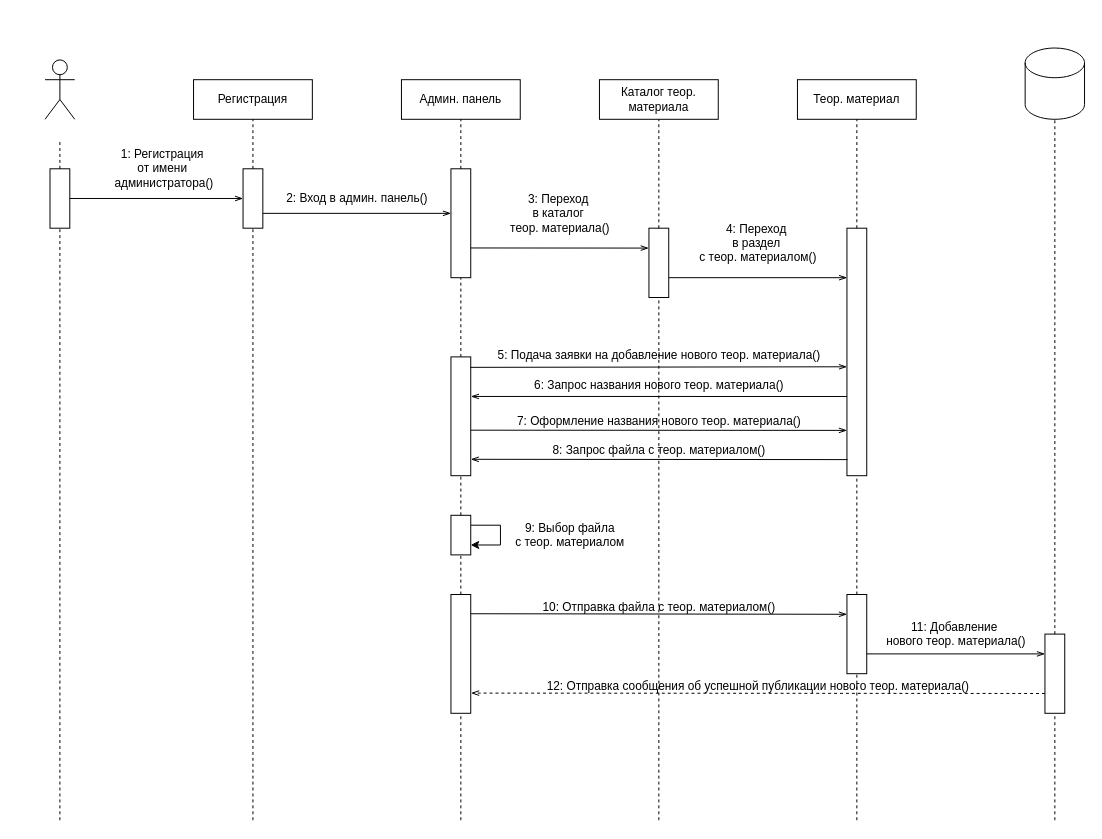
Some shapes in this 1102 by 839 pixel diagram are drawn without their labels. The shapes that lost their labels are listed below. From the top down, each one's box as (x1, y1, x2, y2) in pixels, then its label:
(44, 59, 75, 119): Администратор
(1024, 47, 1085, 119): База данных
